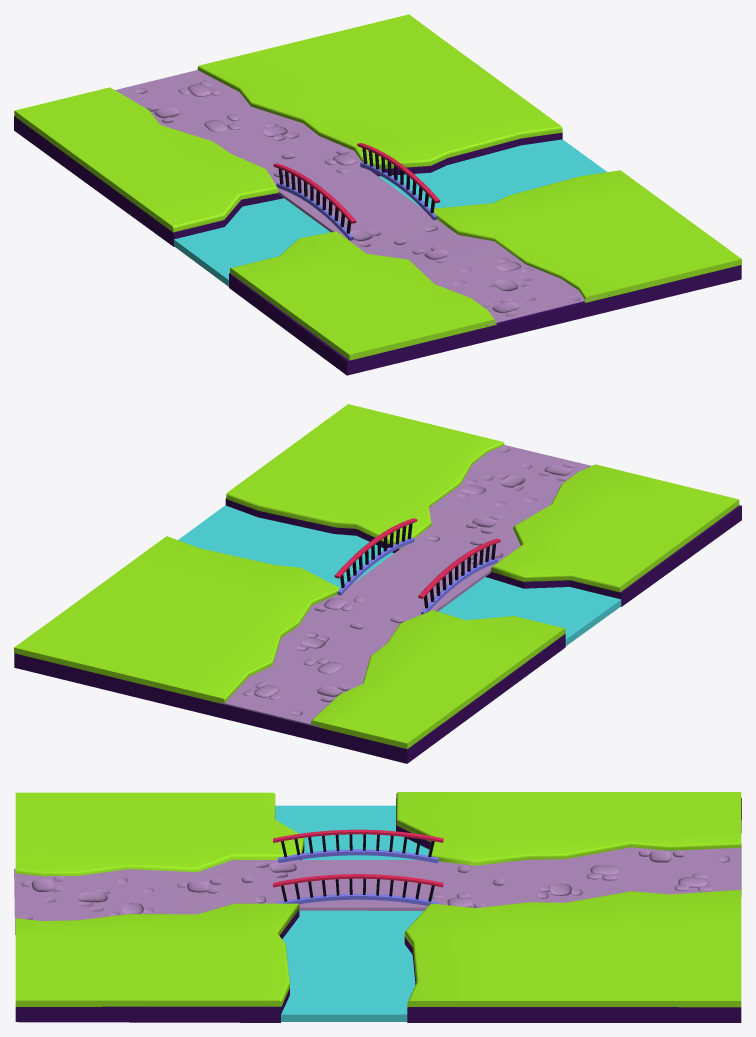
File: Env_mesh.fbx
The picture shows the model from 3 angles, top to bottom: view 1: azimuth 30°, elevation 25°; view 2: azimuth 150°, elevation 25°; view 3: azimuth 270°, elevation 25°; orthographic projection. The views are drawn at different scales.
Parts seen in each view (by area): view 1: Object003; view 2: Object003; view 3: Object003.
Part boxes in pixels (x1,y1,x2,y2): Object003: (14, 14, 741, 375); Object003: (14, 404, 741, 763); Object003: (14, 792, 741, 1022).
Size of the model in its own units: 453 by 49.46 by 664.
